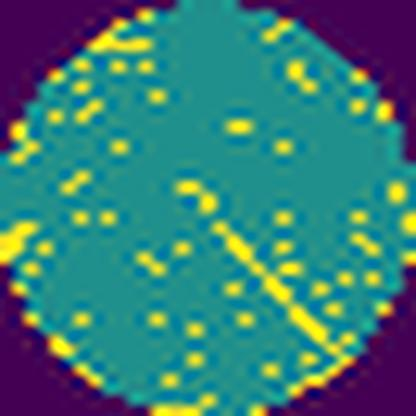Scratch: (207, 220, 358, 356)
